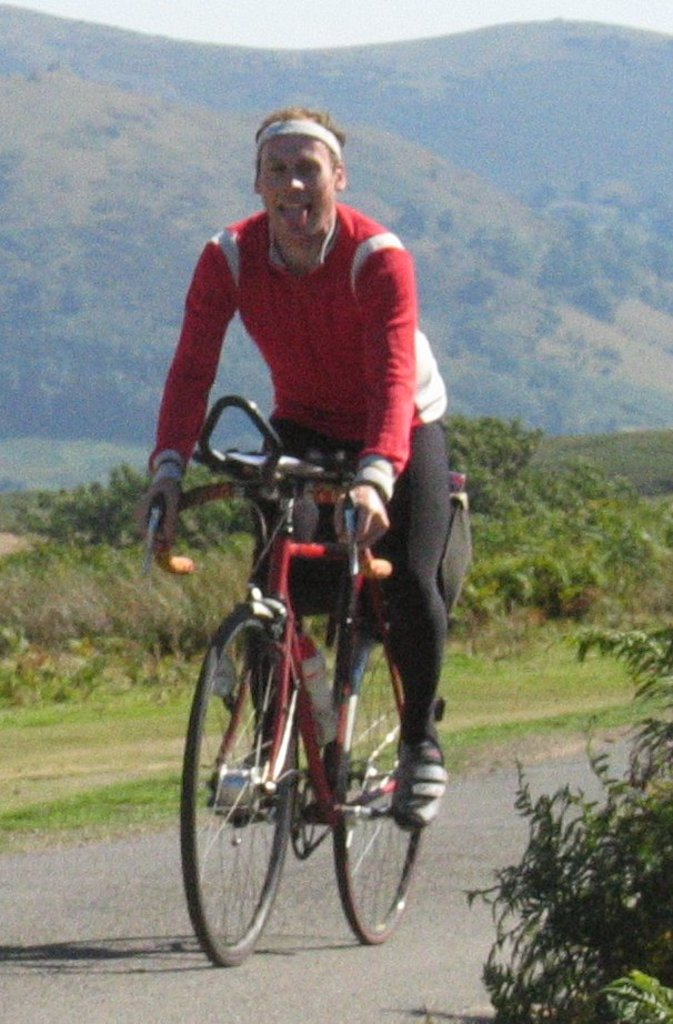Bike: (172, 478, 419, 943)
